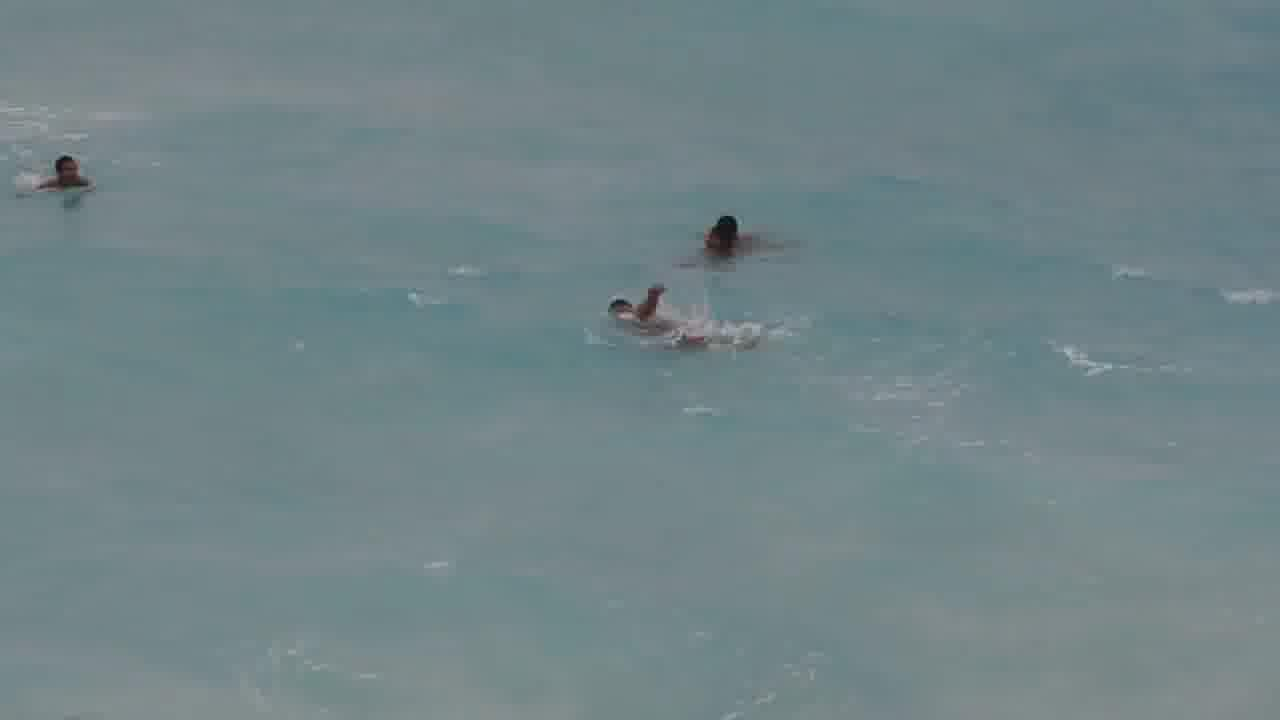swimmer: (608, 283, 736, 349), (19, 150, 104, 206), (688, 210, 772, 261)
